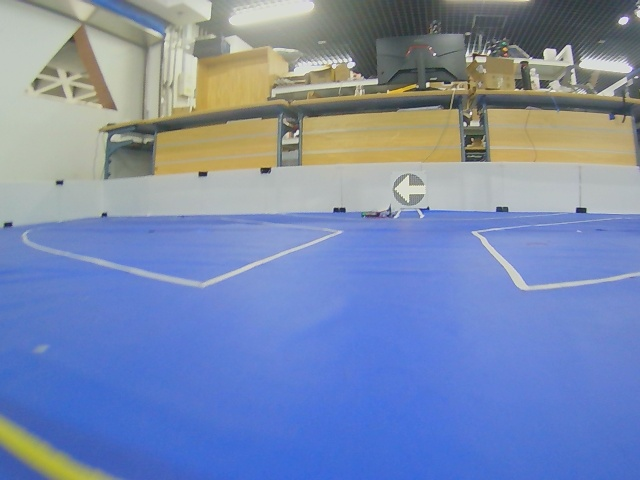left_yellow: (392, 173, 426, 207)
